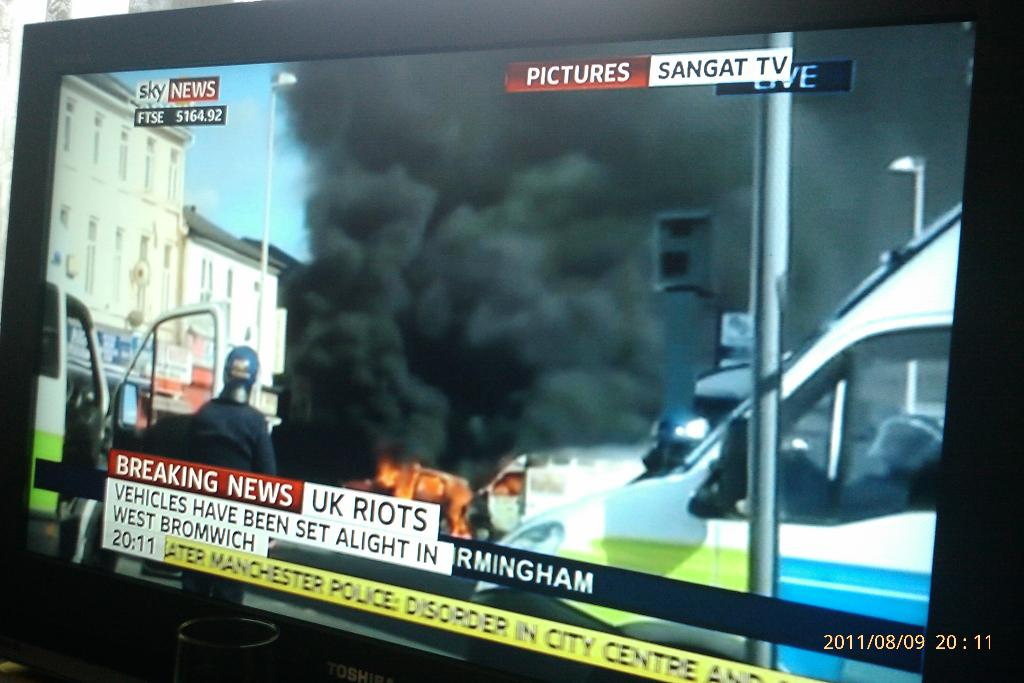Person: (181, 345, 276, 603)
